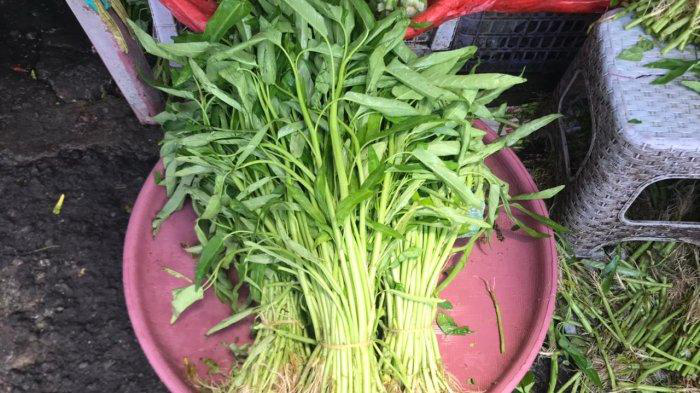Kangkung: (194, 19, 506, 393)
